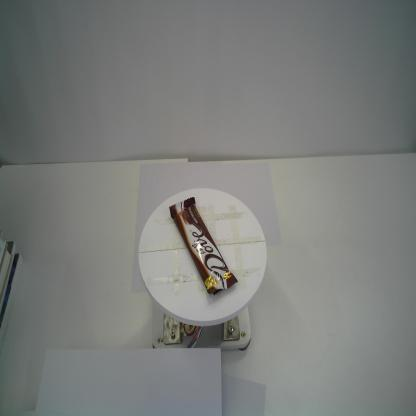Chocolate: (168, 196, 238, 296)
